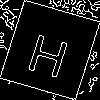H: (24, 25, 74, 79)
